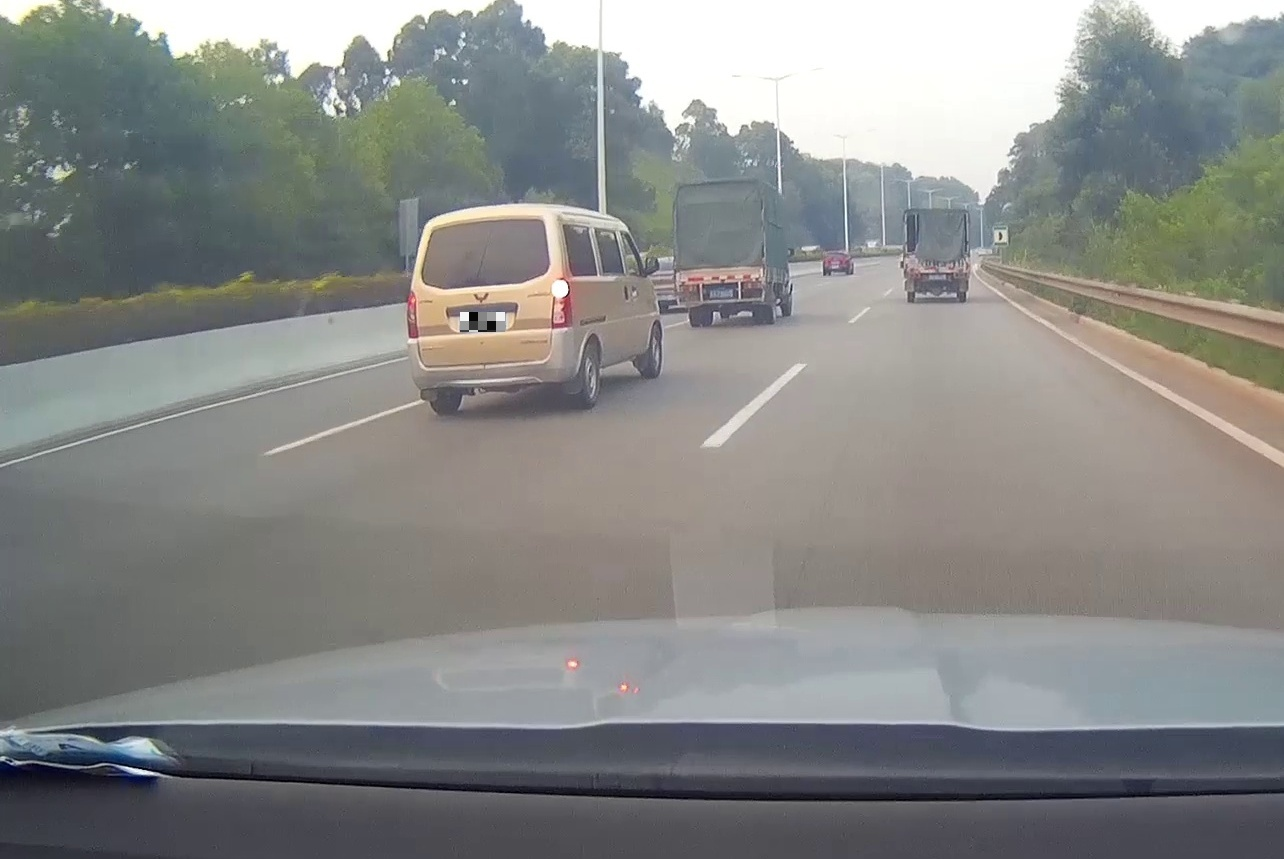L_light: (406, 290, 418, 338), (680, 284, 697, 292), (909, 273, 920, 278)
R_light: (551, 277, 573, 329), (743, 281, 761, 289), (954, 272, 966, 278)
T_light: (469, 219, 500, 228), (711, 270, 728, 276), (933, 262, 944, 266)
day-no: (673, 176, 767, 328), (904, 208, 970, 301)
day-right: (404, 202, 578, 415)
plate_1: (460, 312, 505, 332)
